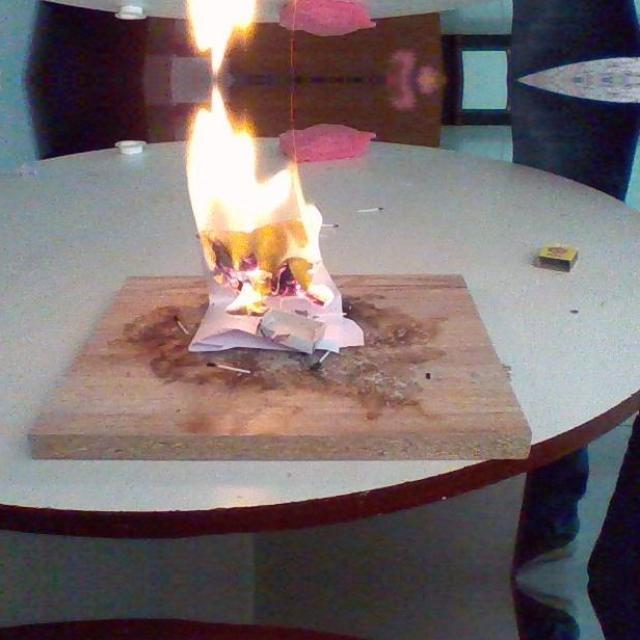smoke: (179, 85, 345, 312), (178, 0, 260, 75)
